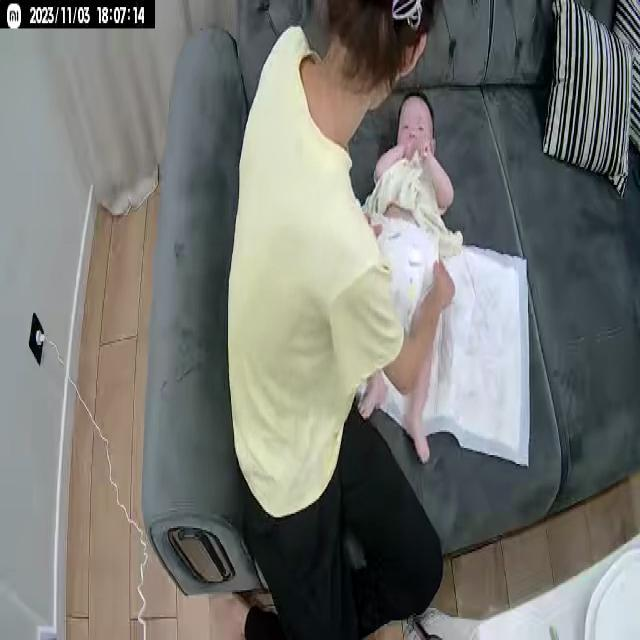baby: (353, 88, 456, 470)
